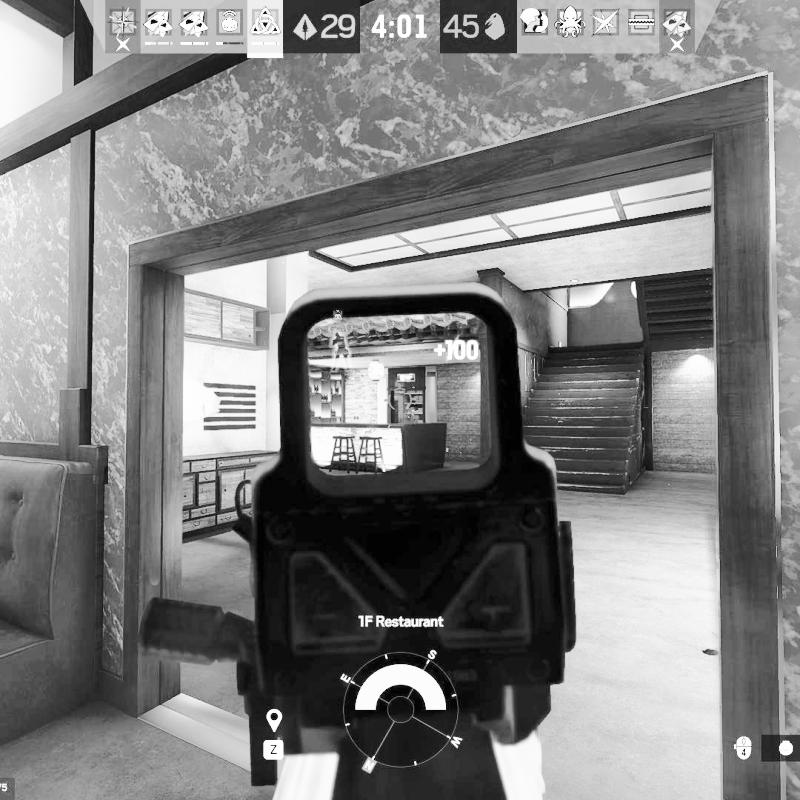Friend_label: (325, 308, 354, 334)
